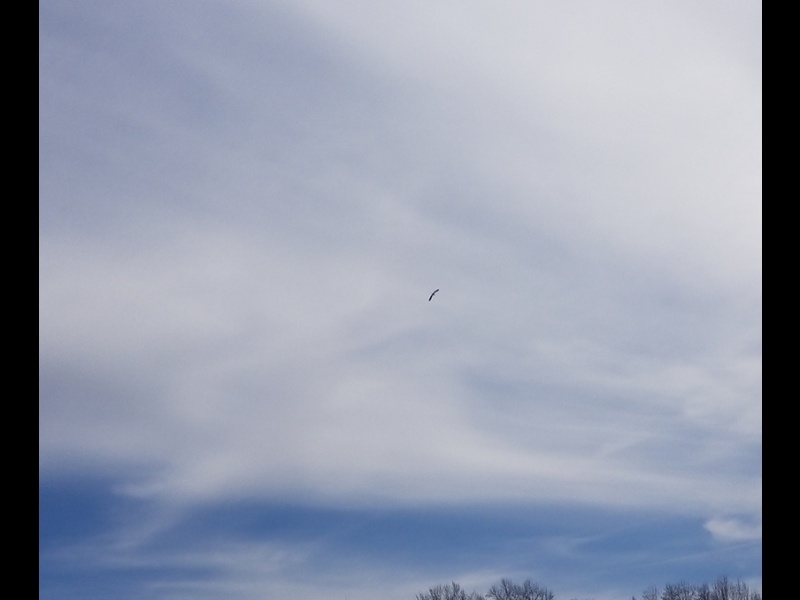heron: (426, 286, 442, 304)
